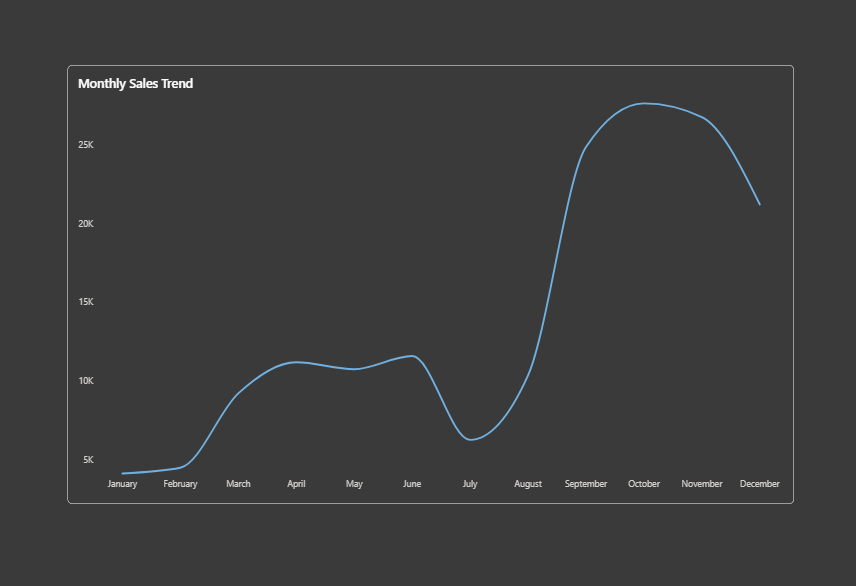

What the dashboard file says about the page in this screenshot:
{"tool":"powerbi","page":{"name":"Monthly Sales Trend","canvas":[1920,1080],"ordinal":1},"visuals":[{"type":"lineChart","title":"Monthly Sales Trend ","fields":{"Category":["Superstore.Order Date.Variation.Date Hierarchy.Month"],"Y":["Sum(Sample - Superstore.Sales)"]},"box":[10.7,0,1160.5,701.9],"z":0}]}

Visuals, with their boxes on the page's 1920x1080 design canvas (x1, y1, x2, y2). These are canvas units, not pixel positions in the 856x586 screenshot, which may show the page scaled, cropped or inside an application window:
"Monthly Sales Trend " lineChart: 11, 0, 1171, 702
